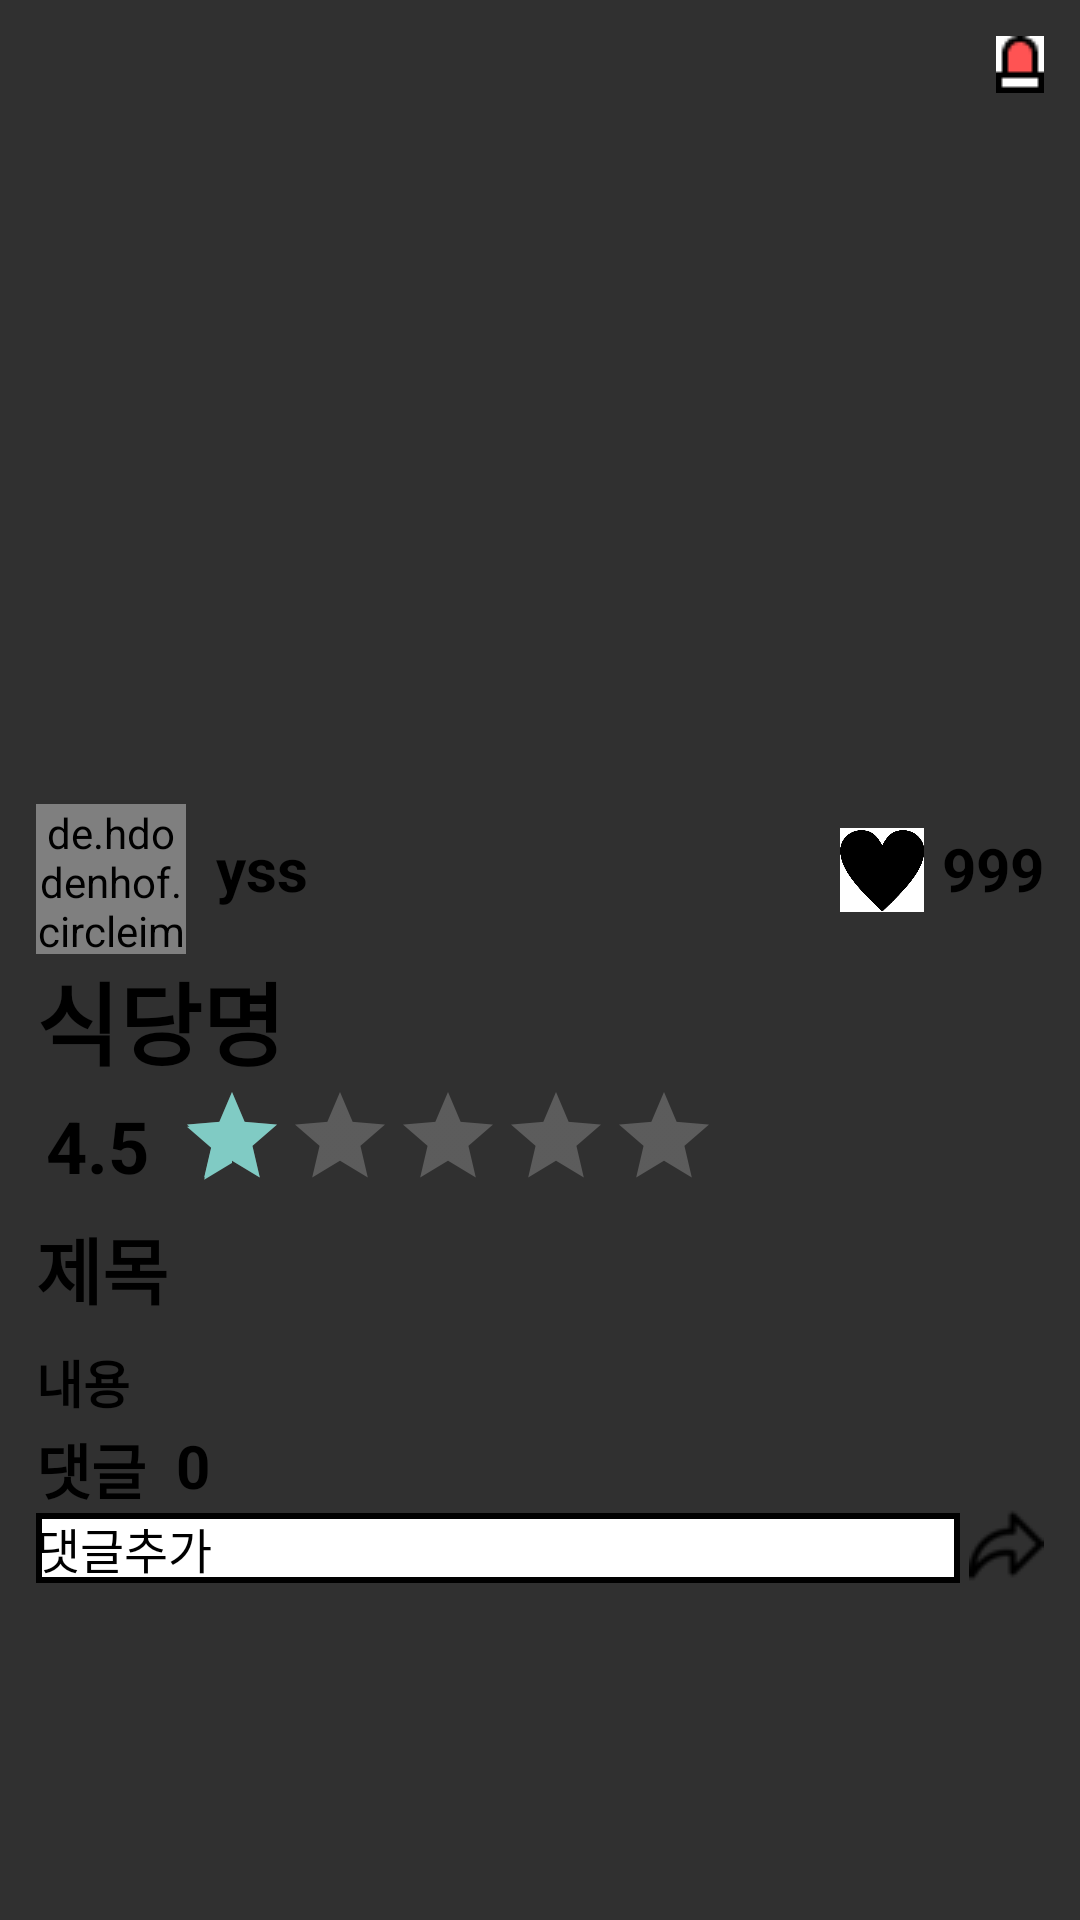

Point at icon controls on the screen. Image size 1080 x 1920, points as (x,y).
send comment: (1006,1545)
singo: (1020,64)
unheart: (882,870)
